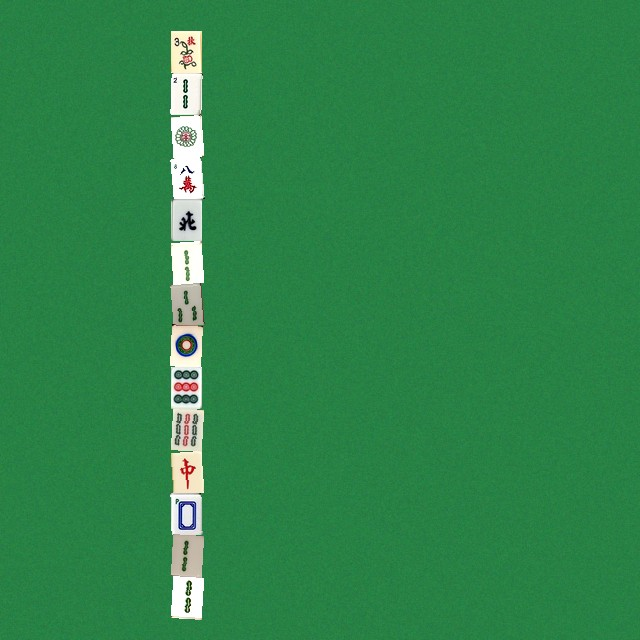tile: (170, 30, 201, 72), (170, 72, 201, 114), (170, 114, 201, 156), (170, 156, 201, 198), (170, 198, 201, 240), (170, 240, 201, 282), (170, 282, 201, 324), (170, 324, 201, 366), (170, 366, 201, 408), (170, 408, 201, 450), (170, 450, 201, 492), (170, 492, 201, 534), (170, 534, 201, 576), (170, 576, 201, 618)
